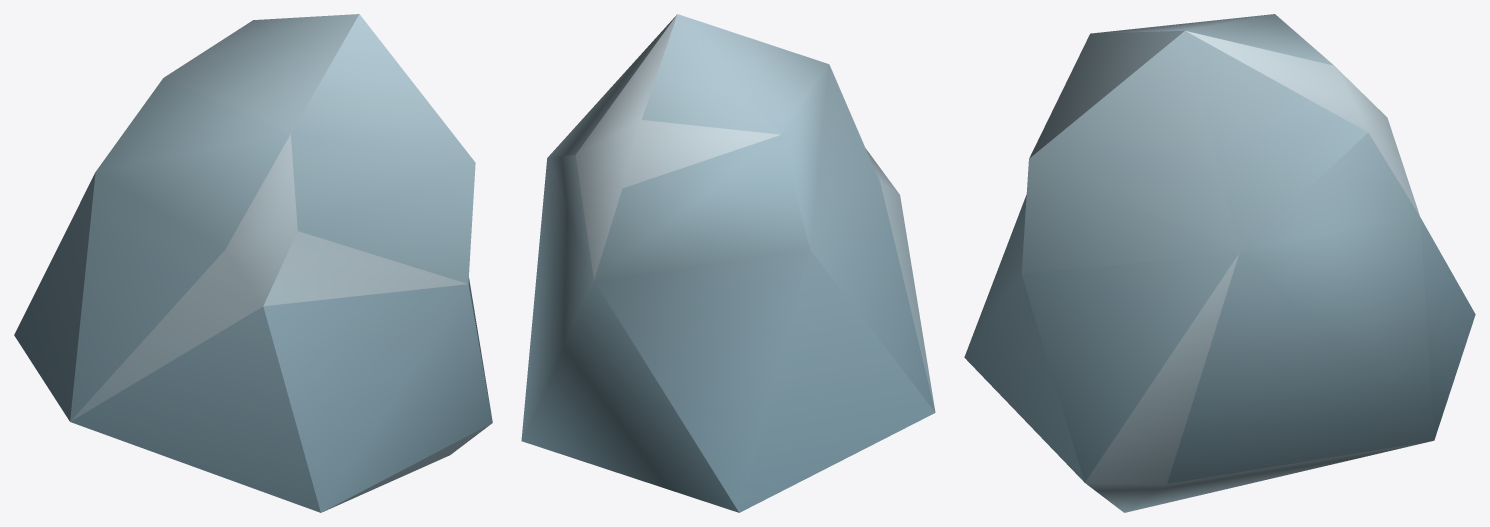
The model's file is silver_nugget_medium.glb.
3 renders of one model, left to right at view 1: azimuth 30°, elevation 25°; view 2: azimuth 150°, elevation 25°; view 3: azimuth 270°, elevation 25°, orthographic. The views are drawn at different scales.
Visible parts, largest first — view 1: Silver_Nugget_Medium; view 2: Silver_Nugget_Medium; view 3: Silver_Nugget_Medium.
Boxes of the visible parts, box(x1,y1,x2,y2) form: Silver_Nugget_Medium: box(14, 14, 492, 512); Silver_Nugget_Medium: box(521, 14, 935, 512); Silver_Nugget_Medium: box(964, 14, 1475, 512).
Bounding box in the file's own units: 0.1553 × 0.1669 × 0.1692.
Materials: 1 (1 with a texture image).
